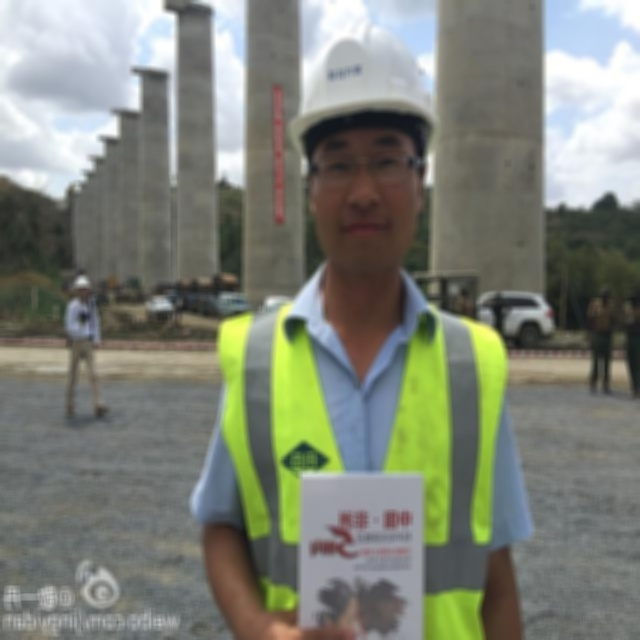Con_Casco: (290, 23, 435, 249), (75, 276, 90, 300)
Con_Chaleco: (221, 311, 501, 640)
